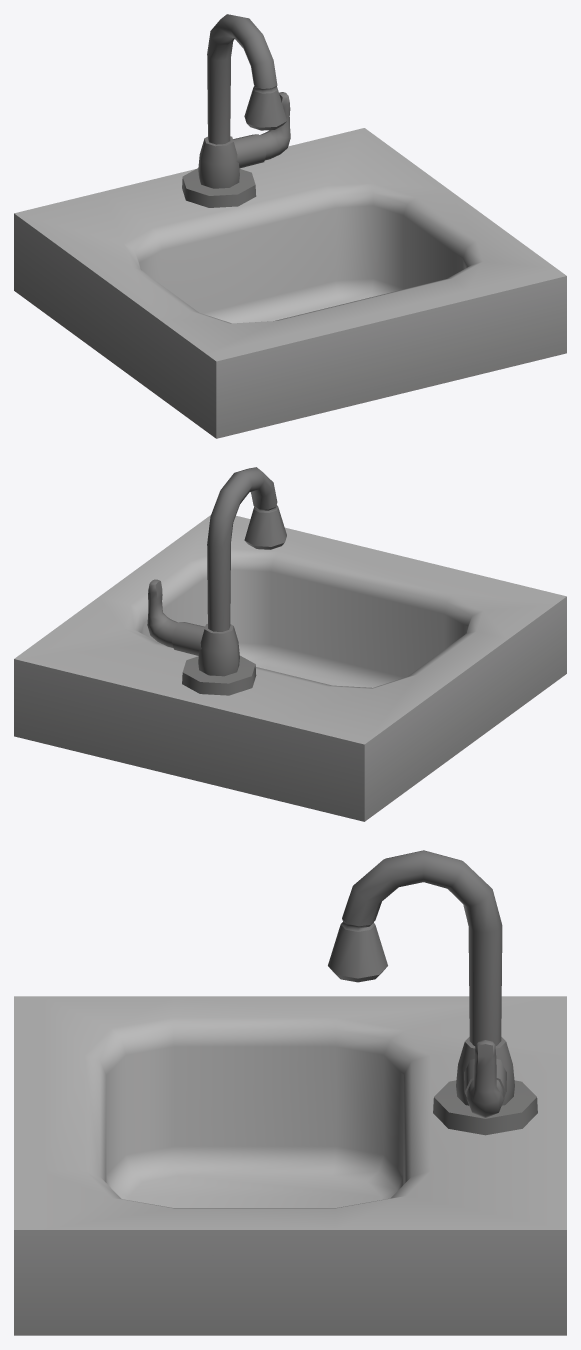
Rendered from Counter_Top_Sink_S_01.fbx.
The picture shows the model from 3 angles, top to bottom: view 1: azimuth 30°, elevation 25°; view 2: azimuth 150°, elevation 25°; view 3: azimuth 270°, elevation 25°; orthographic projection. The views are drawn at different scales.
Parts seen in each view (by area): view 1: Counter_Top_Sink_S_01; view 2: Counter_Top_Sink_S_01; view 3: Counter_Top_Sink_S_01.
Part boxes in pixels (bbox=[...]): Counter_Top_Sink_S_01: bbox=[14, 14, 566, 438]; Counter_Top_Sink_S_01: bbox=[14, 467, 566, 821]; Counter_Top_Sink_S_01: bbox=[14, 850, 566, 1335].
Size of the model in its own units: 100 by 80.2 by 100.
